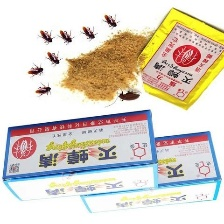book: (0, 104, 163, 207), (74, 128, 224, 214)
insecticide: (131, 7, 224, 111)
